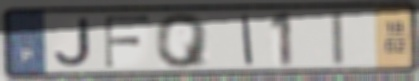1: (267, 10, 296, 68)
F: (102, 14, 152, 70)
I: (330, 9, 346, 68), (240, 13, 256, 67)
J: (52, 17, 94, 68)
Q: (153, 11, 212, 70)
